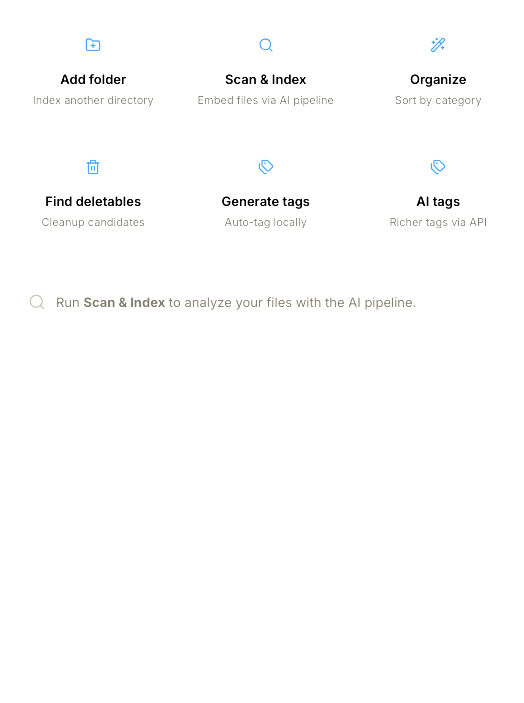
Test: ScanView Open in Finder + job-filtered files › renders all indexed files after scan completes
What coordinates should you click on to do the following:
click the button "Scan & Index Embed files via AI pipeline"
I would click on:
 (266, 68)
Its box is top-left (184, 12), bottom-right (347, 124).
Wait 1100 ms
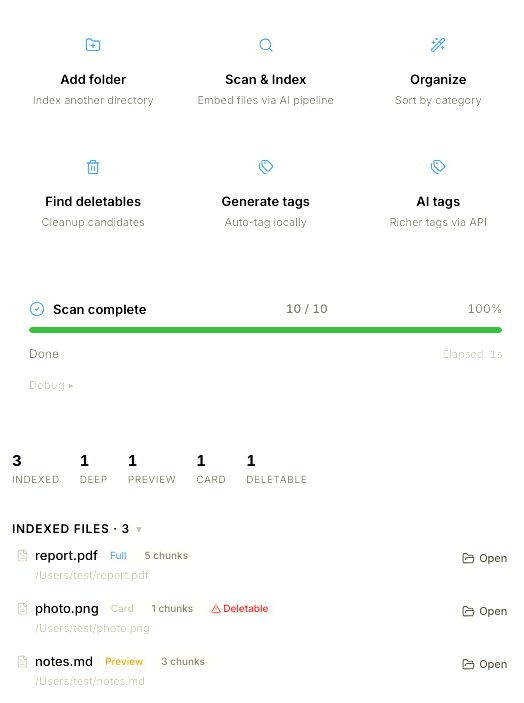
Expected: the text "report.pdf" is shown, top-left (35, 547), bottom-right (98, 563)
Expected: the text "photo.png" is shown, top-left (35, 600), bottom-right (99, 616)
Expected: the text "notes.md" is shown, top-left (35, 653), bottom-right (93, 669)
